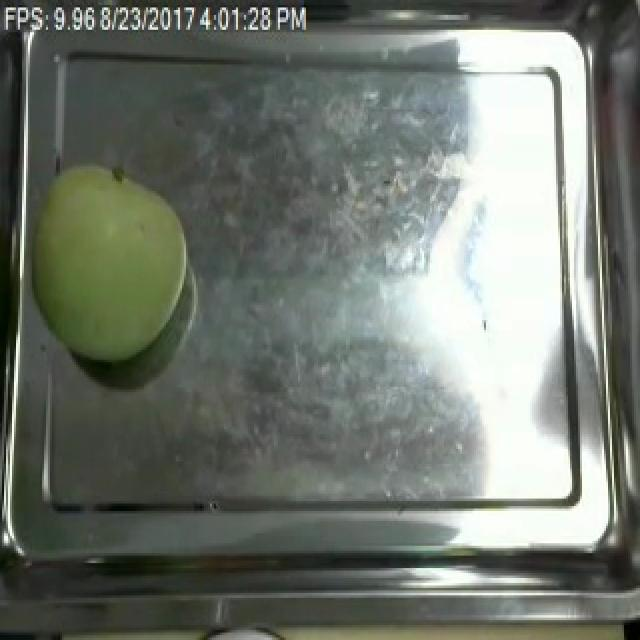50-_ripeness: (32, 160, 202, 370)
